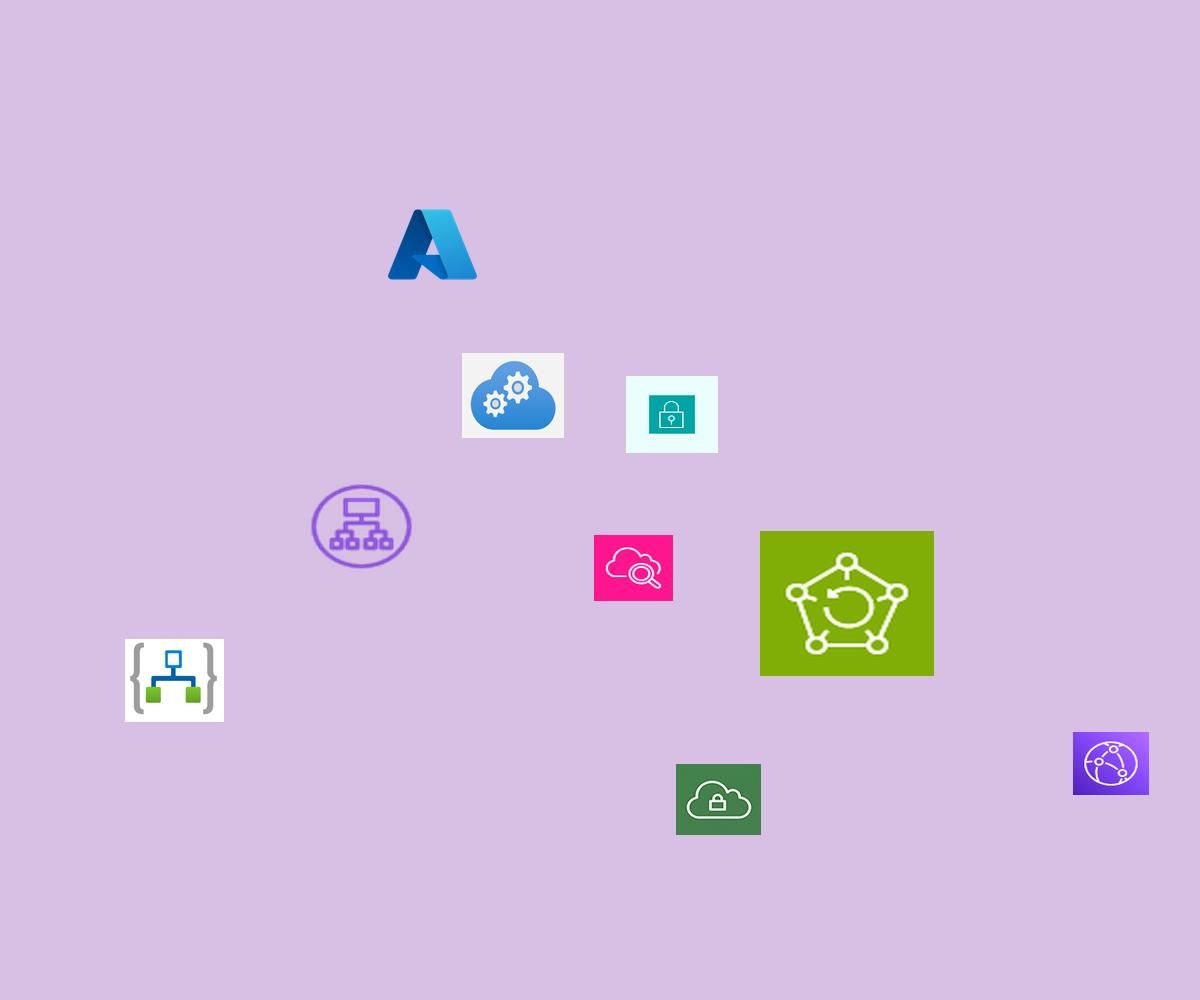AWS-Backup: (760, 531, 934, 676)
AWS-CloudFront: (1073, 732, 1149, 795)
AWS-CloudWatch: (594, 535, 673, 601)
AWS-Private-subnet: (626, 376, 718, 453)
AWS-Private_vpc: (676, 764, 761, 835)
AWS-Res_Elastic-Load-Balancing_Application-Load-Balancer: (307, 481, 416, 572)
Azure_cloud_services: (462, 353, 564, 438)
Azure_integration-204-Logic-Apps: (125, 639, 224, 722)
Azure_services: (384, 204, 481, 285)
